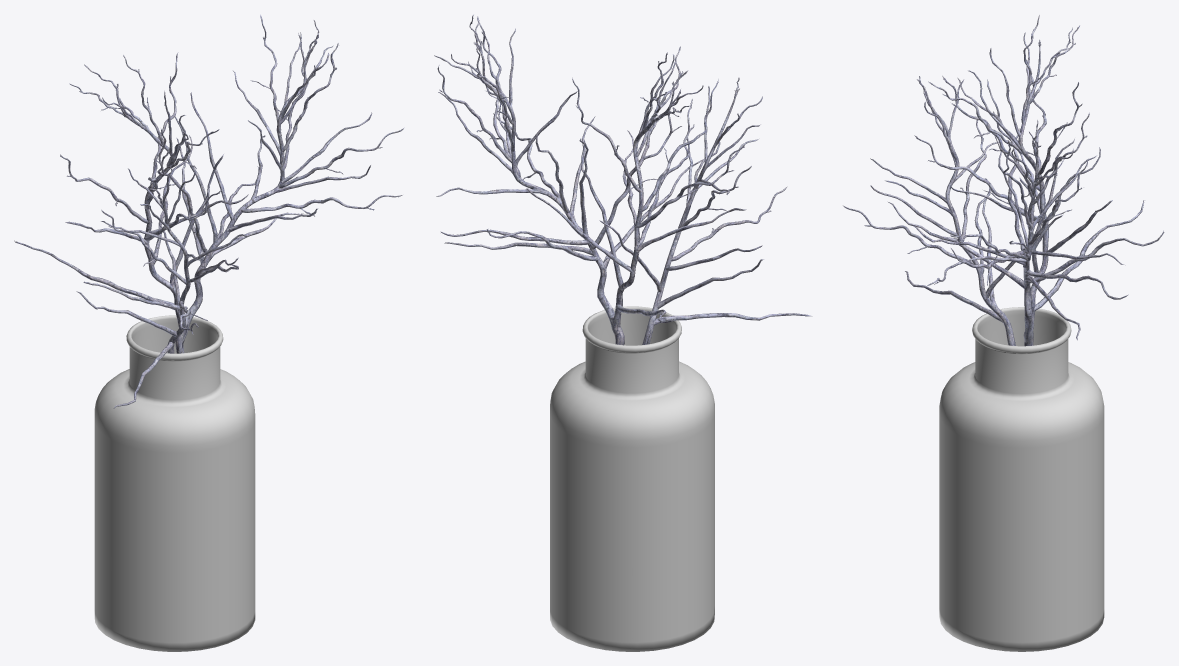
File: Vase.glb
3 renders of one model, left to right at view 1: azimuth 30°, elevation 25°; view 2: azimuth 150°, elevation 25°; view 3: azimuth 270°, elevation 25°, orthographic. The views are drawn at different scales.
Parts seen in each view (by area): view 1: vase, Procedural Tree_2.003, Procedural Tree_2.002; view 2: vase, Procedural Tree_2.003, Procedural Tree_2.002; view 3: vase, Procedural Tree_2.003, Procedural Tree_2.002.
Boxes of the visible parts, x1,y1,x2,y2 form: vase: (94,315,255,651); Procedural Tree_2.003: (14,14,404,353); Procedural Tree_2.002: (76,166,248,408); vase: (550,306,714,651); Procedural Tree_2.003: (434,14,746,345); Procedural Tree_2.002: (599,77,812,344); vase: (939,307,1104,651); Procedural Tree_2.003: (888,15,1164,346); Procedural Tree_2.002: (843,76,1063,345).
Size of the model in its own units: 0.1984 by 0.3425 by 0.1722.
Materials: 2 (1 with a texture image).
